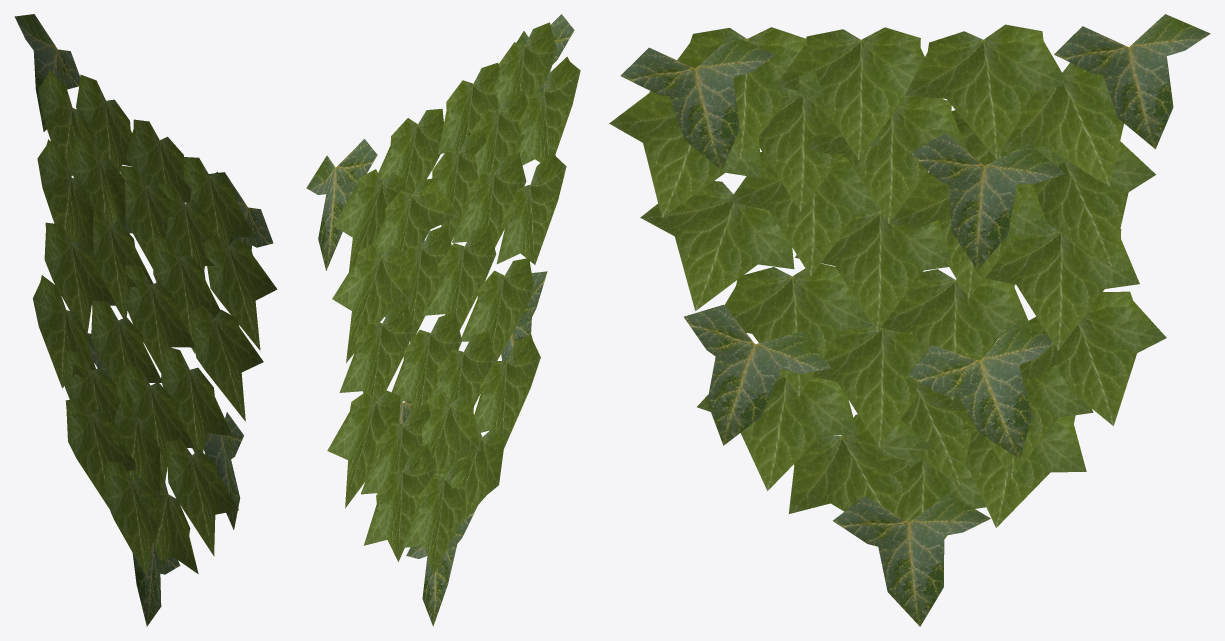
The model's file is Vines_A.fbx.
3 views of the same model, side by side, from view 1: azimuth 30°, elevation 25°; view 2: azimuth 150°, elevation 25°; view 3: azimuth 270°, elevation 25° (orthographic). The views are drawn at different scales.
Parts seen in each view (by area): view 1: VInes_A; view 2: VInes_A; view 3: VInes_A.
Boxes of the visible parts, x1,y1,x2,y2 form: VInes_A: (14,14,277,626); VInes_A: (306,14,580,626); VInes_A: (609,14,1210,626).
Bounding box in the file's own units: 11.97 × 207 × 185.
